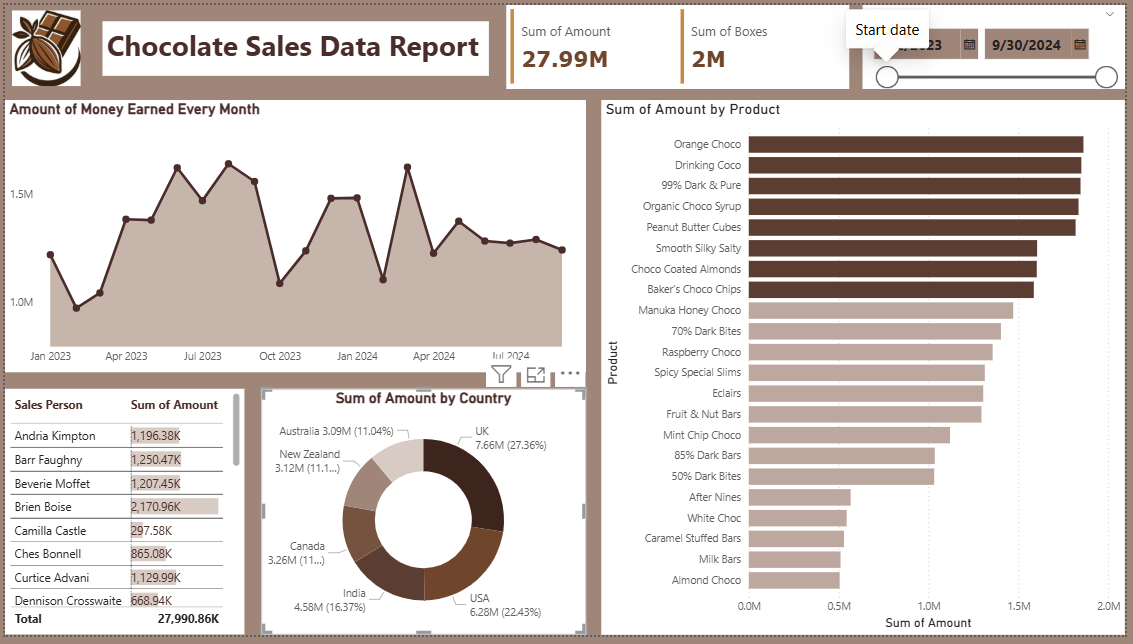

This screenshot's page, from the dashboard's own definition file:
{"tool":"powerbi","page":{"name":"Page 1","canvas":[1280,720],"ordinal":0},"visuals":[{"type":"lineChart","title":"Amount of Money Earned Every Month","fields":{"Category":["data.Date.Variation.Date Hierarchy.Year","data.Date.Variation.Date Hierarchy.Quarter","data.Date.Variation.Date Hierarchy.Month","data.Date.Variation.Date Hierarchy.Day"],"Y":["Sum(data.Amount)"]},"box":[0,108.3,663.9,311.1],"z":0},{"type":"donutChart","fields":{"Category":["data.Country"],"Y":["Sum(data.Amount)"]},"box":[293.1,438.9,370.8,280.6],"z":1000},{"type":"tableEx","fields":{"Values":["data.Sales Person","Sum(data.Amount)"]},"box":[0,438.9,273.6,280.6],"z":2000},{"type":"clusteredBarChart","fields":{"Y":["Sum(data.Amount)"],"Category":["data.Product"]},"box":[681.9,108.3,598.6,611.1],"z":3000},{"type":"cardVisual","fields":{"Data":["Sum(data.Amount)","Sum(data.Boxes)"]},"box":[572.2,0,391.7,95.8],"z":4000},{"type":"slicer","fields":{"Values":["data.Date"]},"box":[980.6,0,300,95.8],"z":5000},{"type":"textbox","box":[111.1,18.1,441.7,62.5],"z":6000},{"type":"image","box":[0,1.4,94.4,95.8],"z":6001}]}

Visuals, with their boxes in screenshot pixels (x1, y1, x2, y2), scaled from the page's 1280x720 canvas onto the 1133x644 screenshot:
"Amount of Money Earned Every Month" lineChart: left=0, top=97, right=588, bottom=375
donutChart - data.Country x Sum(data.Amount): left=259, top=393, right=588, bottom=643
tableEx - data.Sales Person x Sum(data.Amount): left=0, top=393, right=242, bottom=643
clusteredBarChart - Sum(data.Amount) x data.Product: left=604, top=97, right=1132, bottom=643
cardVisual - Sum(data.Amount) x Sum(data.Boxes): left=506, top=0, right=853, bottom=86
slicer - data.Date: left=868, top=0, right=1132, bottom=86
textbox: left=98, top=16, right=489, bottom=72
image: left=0, top=1, right=84, bottom=87
